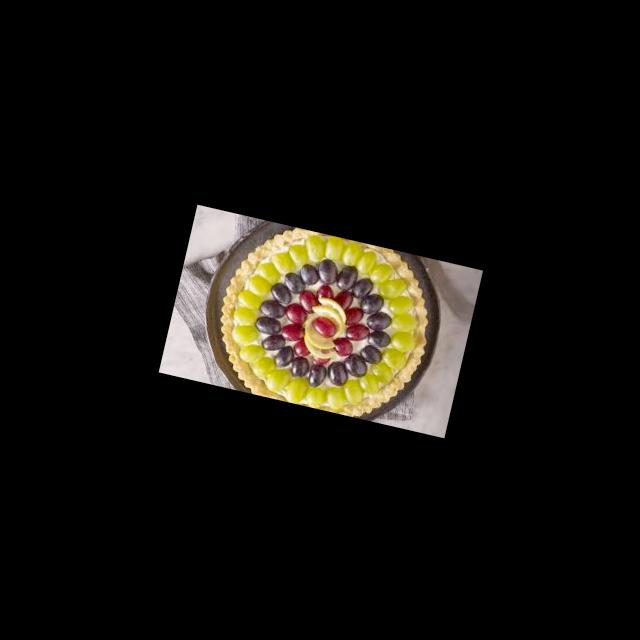grape: (215, 218, 434, 426)
